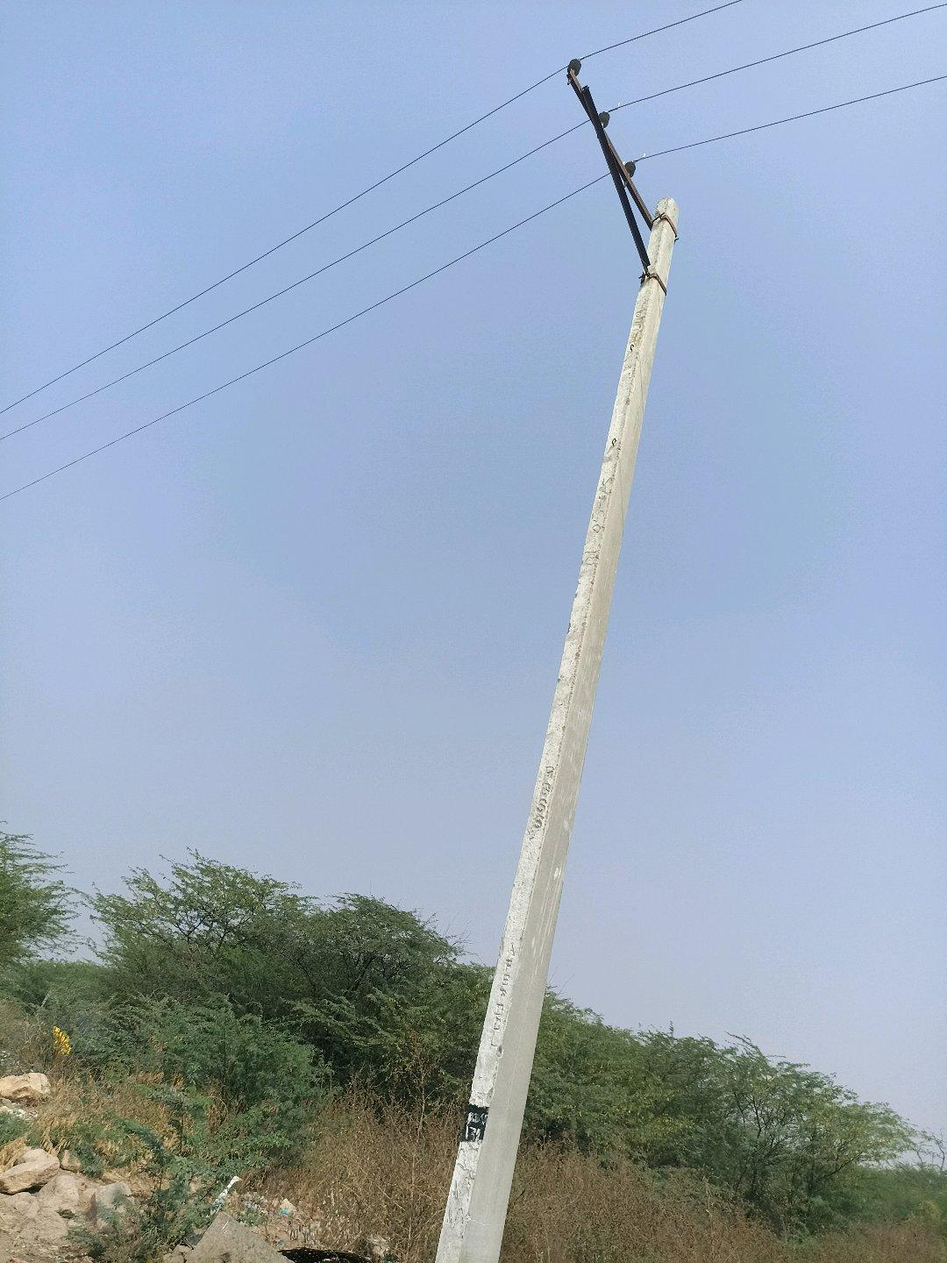{"0" "insulator", "1" "pole", "2" "crossarm", "3" "conductor", "4" "street_: (435, 61, 678, 1262)
